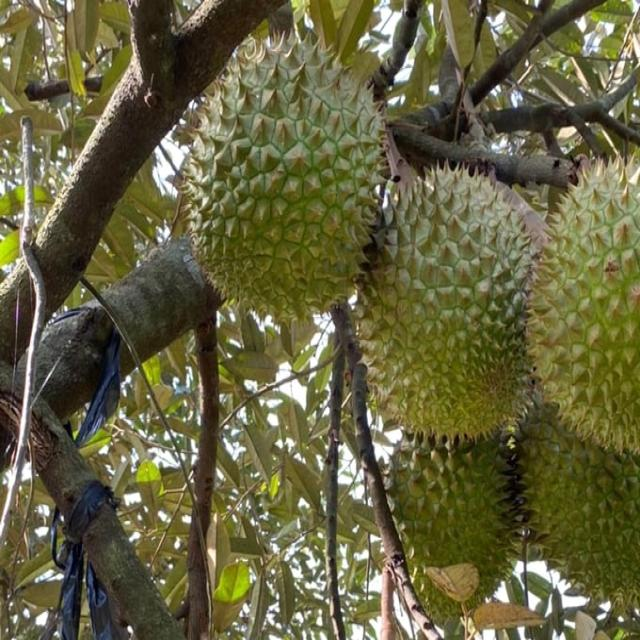Sau Rieng: (182, 33, 384, 322), (358, 165, 542, 435), (530, 152, 638, 450), (390, 441, 517, 614), (526, 419, 634, 611)
